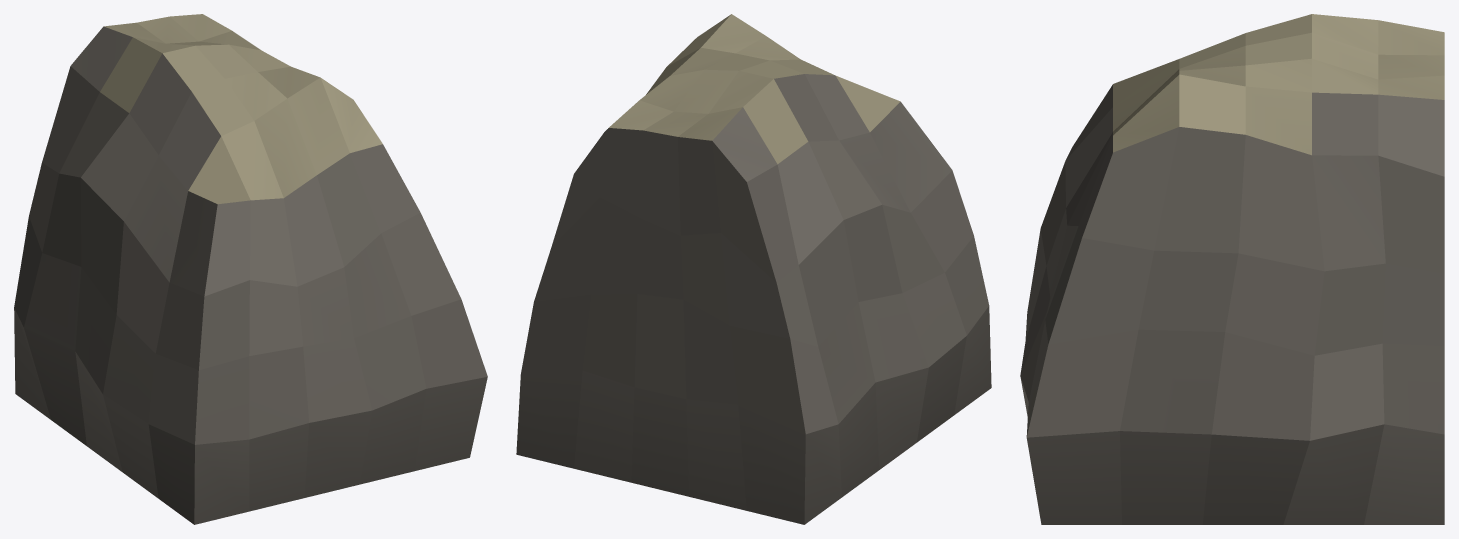
The model's file is roca_punta_3.glb.
3 renders of one model, left to right at view 1: azimuth 30°, elevation 25°; view 2: azimuth 150°, elevation 25°; view 3: azimuth 270°, elevation 25°, orthographic. The views are drawn at different scales.
Visible parts, largest first — view 1: propforge-cuartos-roca_punta; view 2: propforge-cuartos-roca_punta; view 3: propforge-cuartos-roca_punta.
Part boxes in pixels (x1,y1,x2,y2): propforge-cuartos-roca_punta: [14, 14, 487, 524]; propforge-cuartos-roca_punta: [516, 14, 991, 524]; propforge-cuartos-roca_punta: [1020, 14, 1444, 524].
Size of the model in its own units: 0.9063 by 1 by 0.9471.
